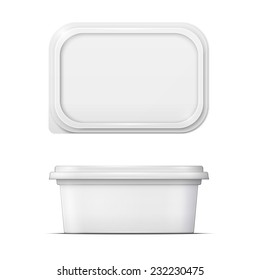PlasticBox: (46, 160, 210, 238)
